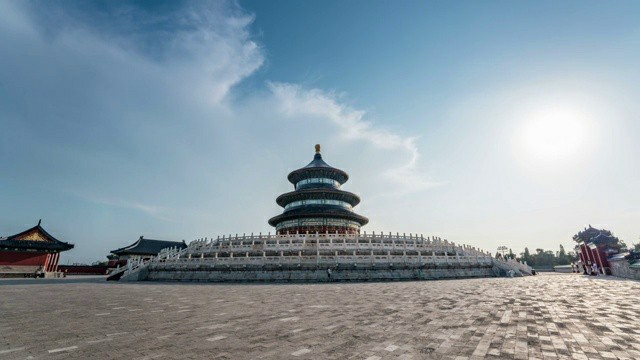Heaven: (266, 143, 369, 239)
